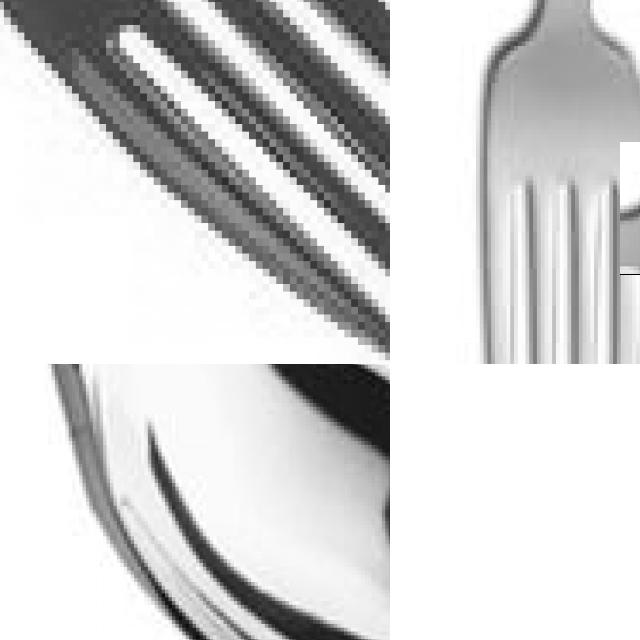forks: (0, 0, 390, 364)
spoons: (54, 364, 390, 640)
